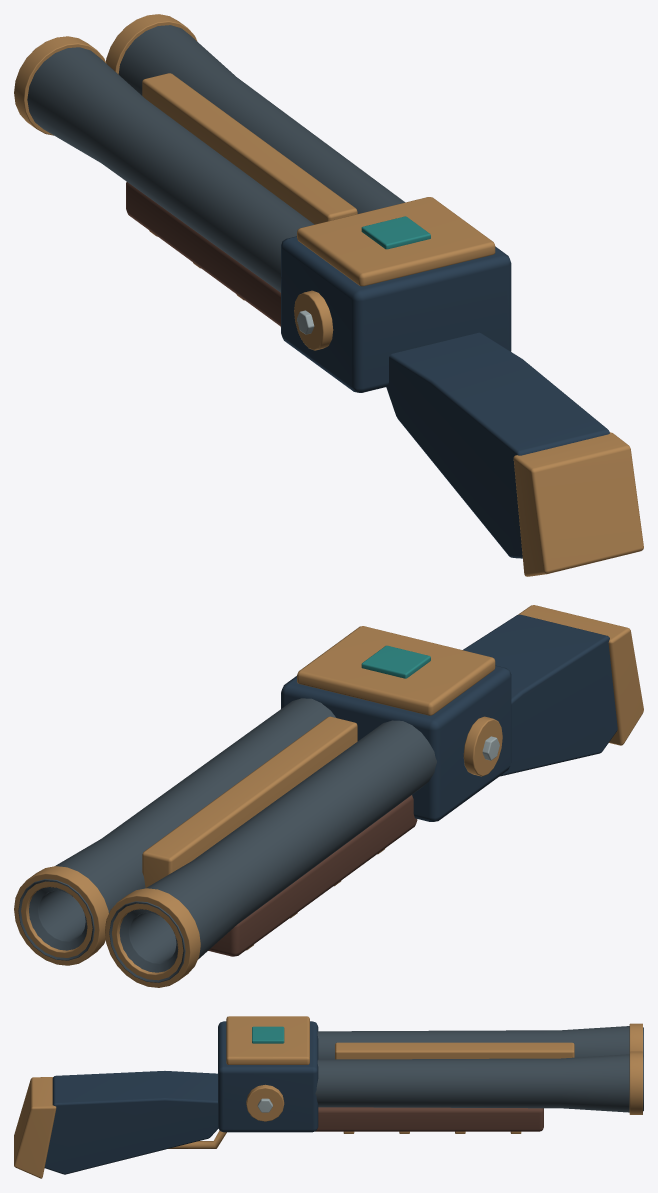
File: shotgun.glb
The picture shows the model from 3 angles, top to bottom: view 1: azimuth 30°, elevation 25°; view 2: azimuth 150°, elevation 25°; view 3: azimuth 270°, elevation 25°; orthographic projection. The views are drawn at different scales.
Visible parts, largest first — view 1: v2_shotgun__scatter_barrel_0, v2_shotgun__short_stock, v2_shotgun__receiver, v2_shotgun__stock_plate, v2_shotgun__scatter_barrel_1, v2_shotgun__receiver_top, v2_shotgun__barrel_bridge, v2_shotgun__lower_handguard, v2_shotgun__scatter_lip_0, v2_shotgun__hinge_neg1, v2_shotgun__core_inlay, v2_shotgun__scatter_lip_1; view 2: v2_shotgun__scatter_barrel_0, v2_shotgun__scatter_barrel_1, v2_shotgun__short_stock, v2_shotgun__receiver, v2_shotgun__receiver_top, v2_shotgun__barrel_bridge, v2_shotgun__lower_handguard, v2_shotgun__scatter_lip_0, v2_shotgun__scatter_lip_1, v2_shotgun__stock_plate, v2_shotgun__hinge_neg1, v2_shotgun__core_inlay; view 3: v2_shotgun__scatter_barrel_1, v2_shotgun__short_stock, v2_shotgun__receiver, v2_shotgun__lower_handguard, v2_shotgun__scatter_barrel_0, v2_shotgun__barrel_bridge, v2_shotgun__receiver_top, v2_shotgun__stock_plate, v2_shotgun__hinge_1, v2_shotgun__scatter_lip_1, v2_shotgun__core_inlay, v2_shotgun__scatter_lip_0 (+1 smaller).
Part boxes in pixels (x1,y1,x2,y2): v2_shotgun__scatter_barrel_0: (27, 47, 314, 292); v2_shotgun__short_stock: (386, 332, 609, 558); v2_shotgun__receiver: (281, 236, 511, 392); v2_shotgun__stock_plate: (513, 432, 643, 576); v2_shotgun__scatter_barrel_1: (118, 25, 405, 213); v2_shotgun__receiver_top: (297, 197, 495, 286); v2_shotgun__barrel_bridge: (142, 73, 357, 224); v2_shotgun__lower_handguard: (126, 182, 280, 326); v2_shotgun__scatter_lip_0: (14, 36, 106, 135); v2_shotgun__hinge_neg1: (294, 290, 333, 350); v2_shotgun__core_inlay: (361, 216, 430, 249); v2_shotgun__scatter_lip_1: (106, 14, 196, 74); v2_shotgun__scatter_barrel_0: (109, 720, 436, 982); v2_shotgun__scatter_barrel_1: (18, 698, 335, 960); v2_shotgun__short_stock: (463, 614, 617, 776); v2_shotgun__receiver: (281, 665, 511, 821); v2_shotgun__receiver_top: (297, 626, 495, 715); v2_shotgun__barrel_bridge: (142, 716, 357, 887); v2_shotgun__lower_handguard: (208, 795, 417, 956); v2_shotgun__scatter_lip_0: (105, 888, 200, 987); v2_shotgun__scatter_lip_1: (14, 866, 108, 965); v2_shotgun__stock_plate: (518, 605, 643, 745); v2_shotgun__hinge_neg1: (463, 716, 502, 776); v2_shotgun__core_inlay: (361, 645, 430, 678); v2_shotgun__scatter_barrel_1: (315, 1054, 643, 1112); v2_shotgun__short_stock: (44, 1071, 218, 1174); v2_shotgun__receiver: (218, 1021, 318, 1132); v2_shotgun__lower_handguard: (315, 1107, 543, 1131); v2_shotgun__scatter_barrel_0: (317, 1026, 643, 1059); v2_shotgun__barrel_bridge: (335, 1042, 574, 1059); v2_shotgun__receiver_top: (226, 1016, 309, 1064); v2_shotgun__stock_plate: (14, 1077, 56, 1178); v2_shotgun__hinge_1: (246, 1084, 284, 1121); v2_shotgun__scatter_lip_1: (629, 1051, 642, 1114); v2_shotgun__core_inlay: (252, 1026, 284, 1043); v2_shotgun__scatter_lip_0: (629, 1023, 642, 1051).
Bounding box in the file's own units: 0.254 × 0.2584 × 1.13.
